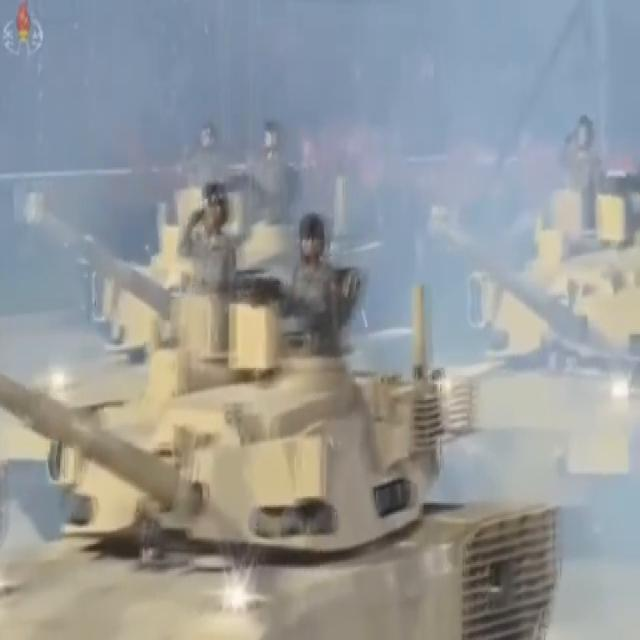north tank: (1, 264, 564, 640), (426, 190, 640, 544)
